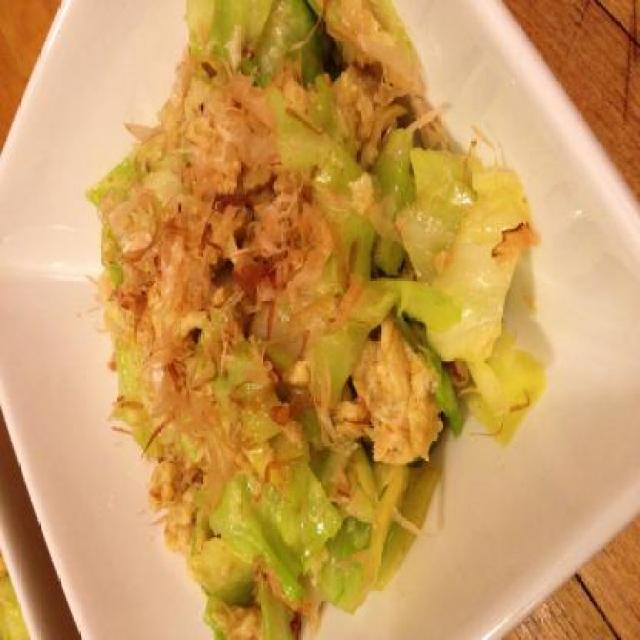Salad: (83, 0, 549, 638)
